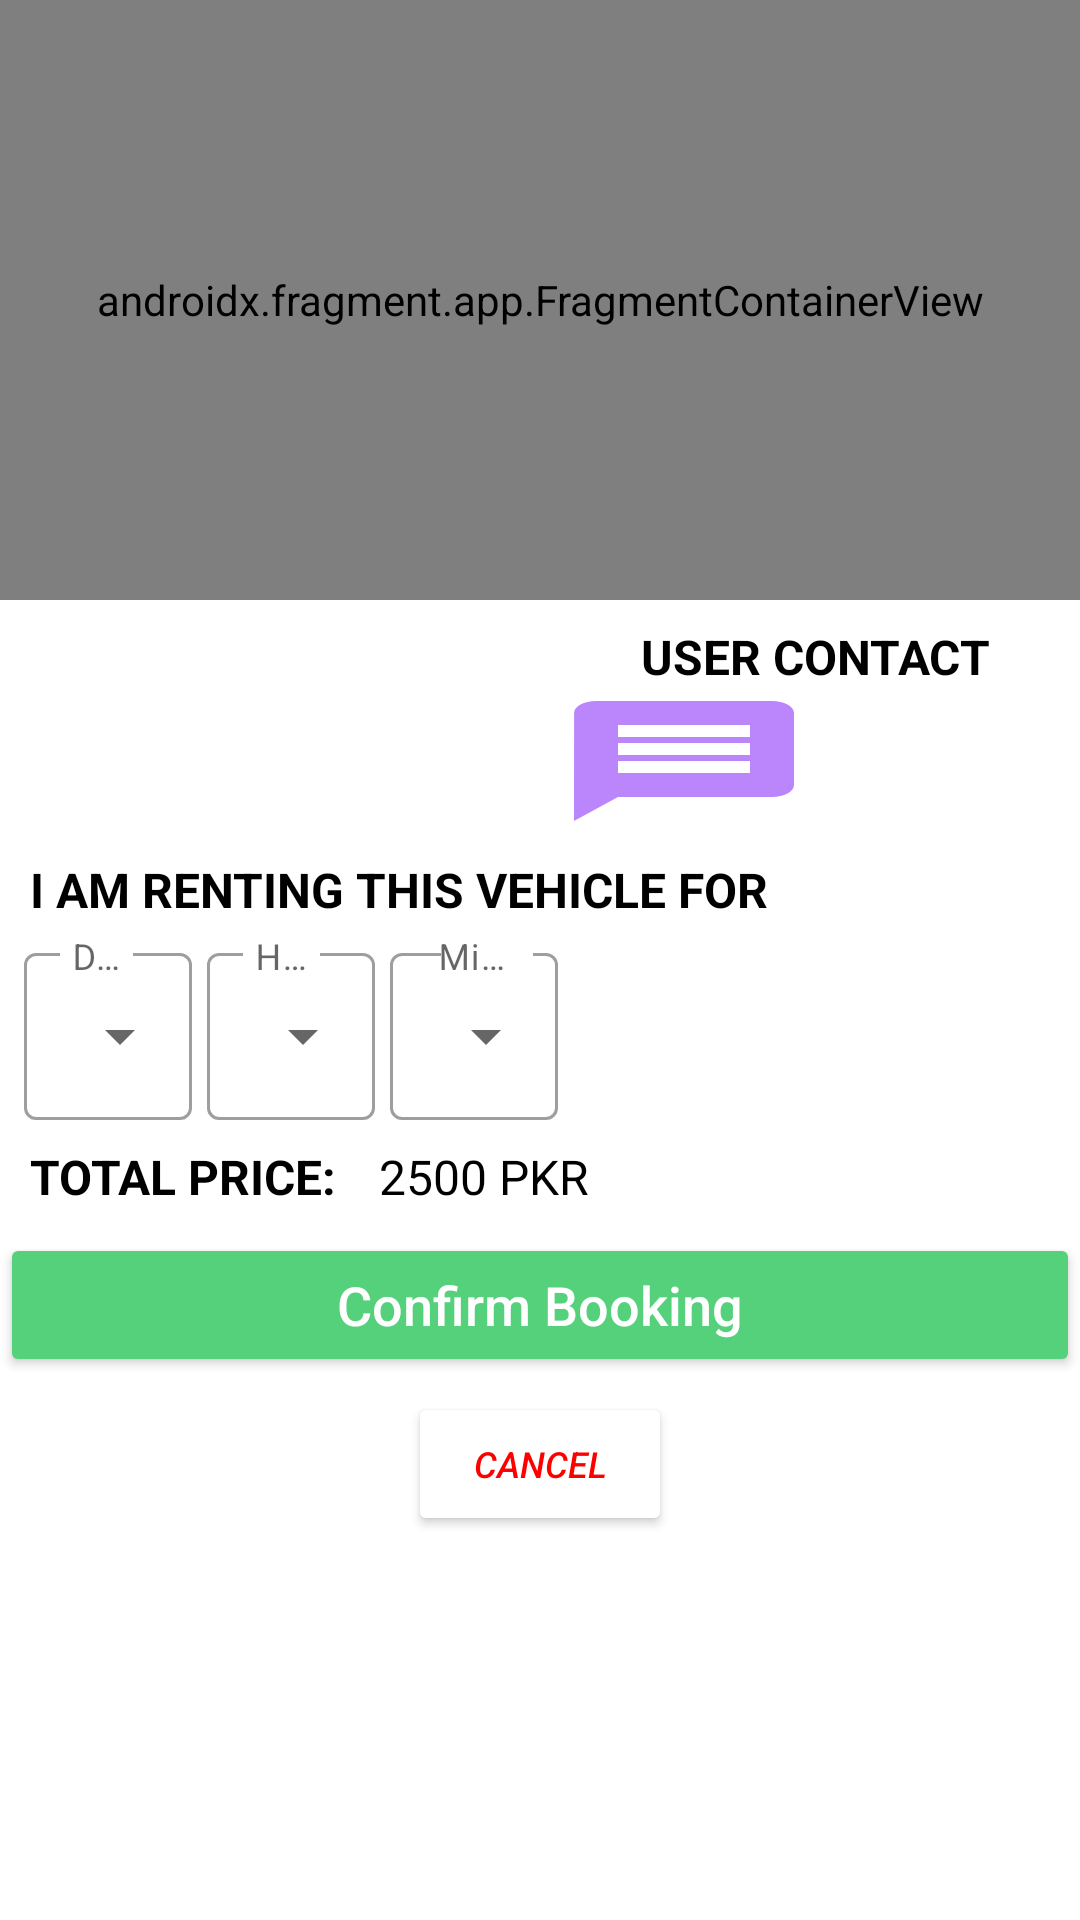

Icons on this 1080w x 1920h Android screen, each with the point to tap as (x,y):
message: (684,761)
